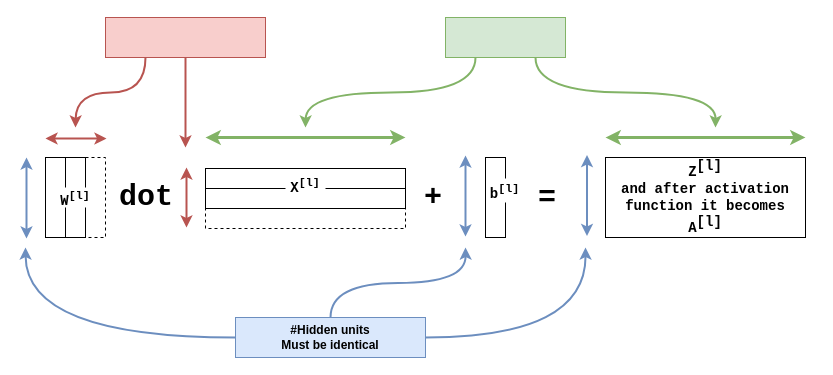
Image size: 833x375. Some labels were removed from this diagram. Here are the shapes that lost their labels. From the top down, the centre of each, then its label:
At point (185, 37): "#Inputs Must be identical".
At point (505, 37): "#Samples Must be identical".
